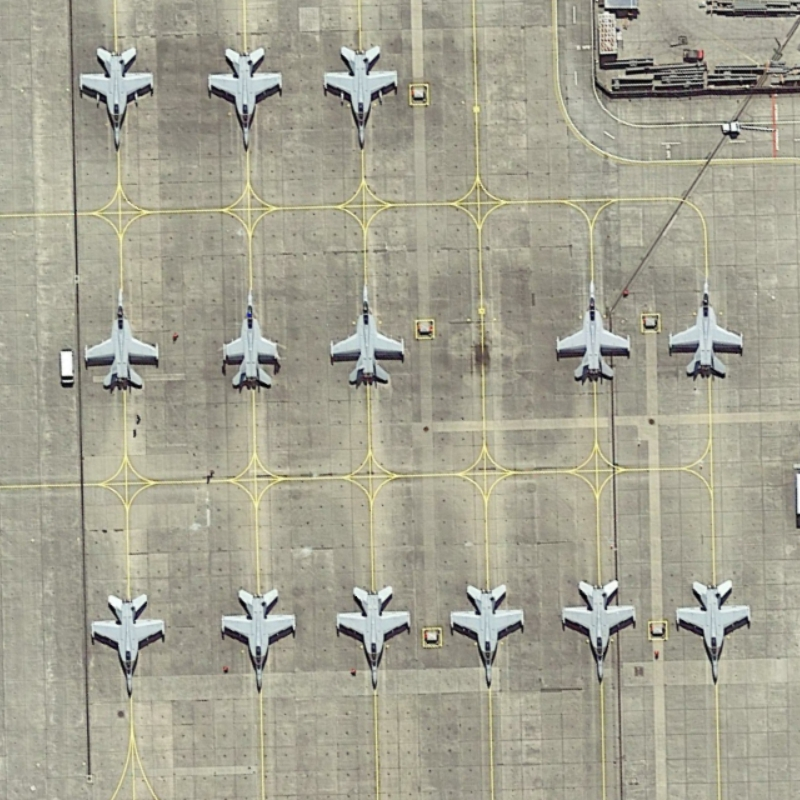A16: (656, 268, 752, 387), (212, 574, 303, 698), (314, 35, 406, 155), (82, 584, 176, 701), (443, 575, 529, 695), (76, 282, 165, 396), (319, 279, 410, 390), (549, 277, 637, 390), (78, 41, 162, 159), (555, 568, 639, 686), (326, 579, 416, 689), (205, 38, 289, 155), (210, 280, 292, 394), (672, 573, 754, 686)
